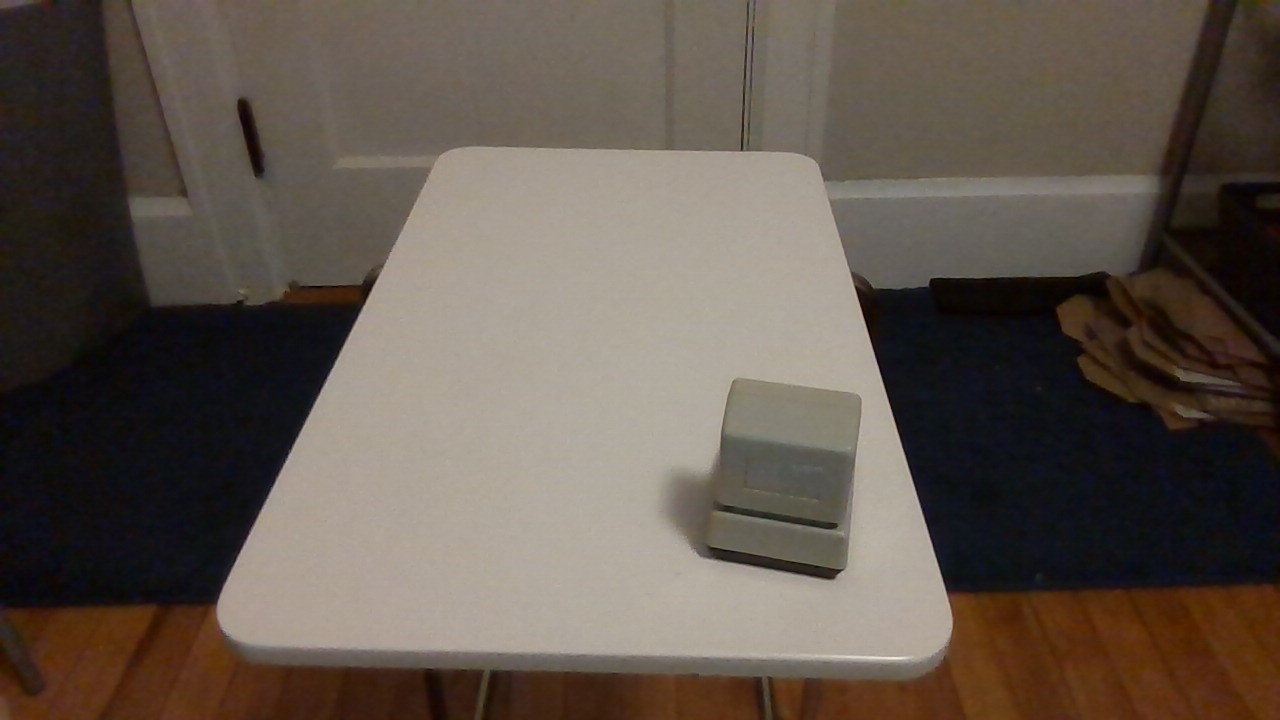Toy: (666, 369, 910, 597)
